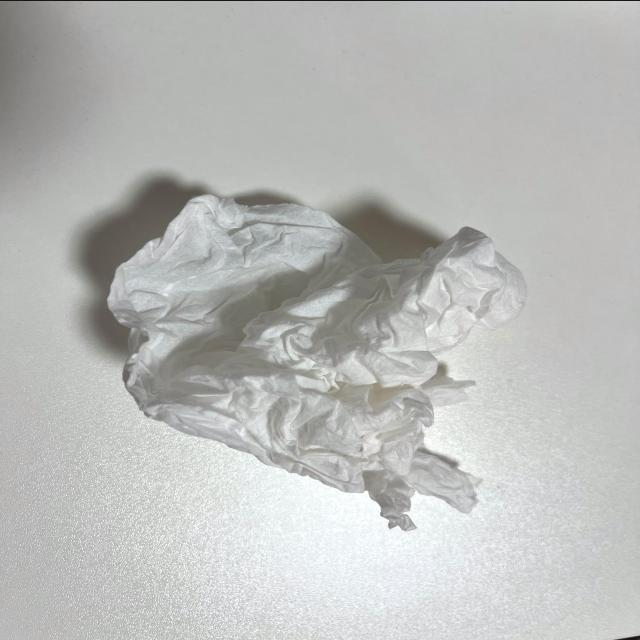Paper: (105, 176, 509, 551)
